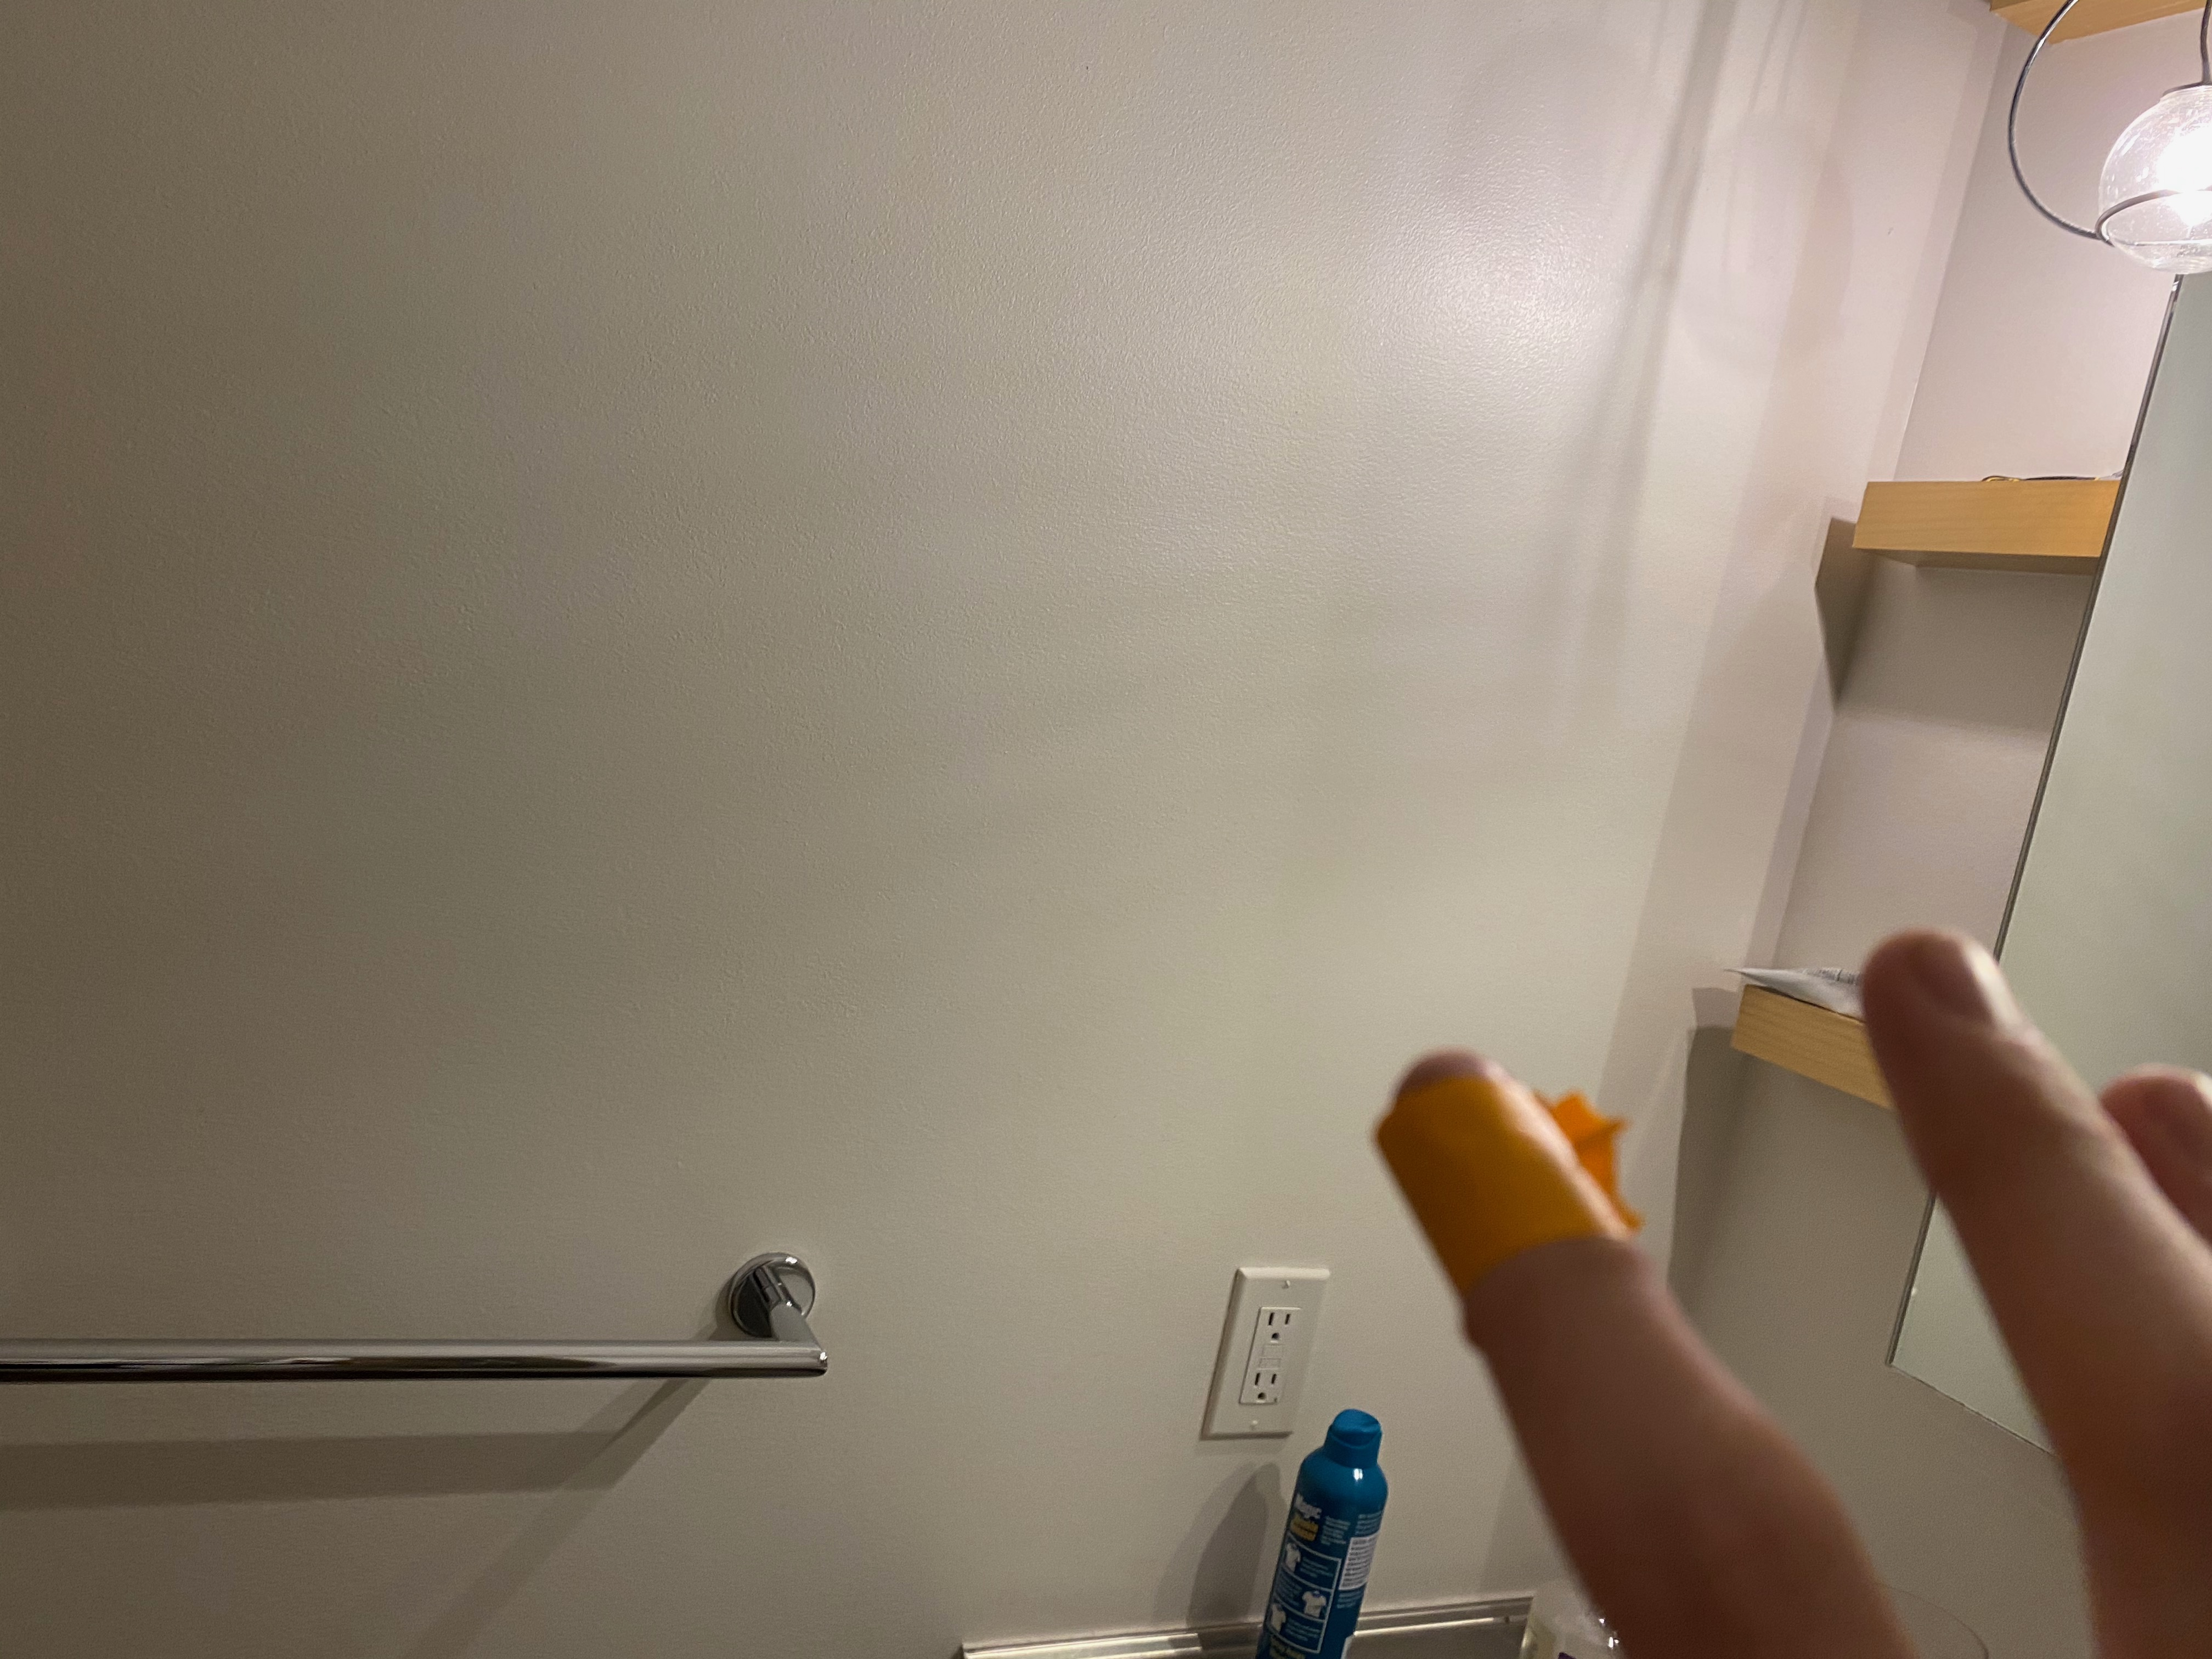fingertip: (1339, 1032, 1653, 1270)
